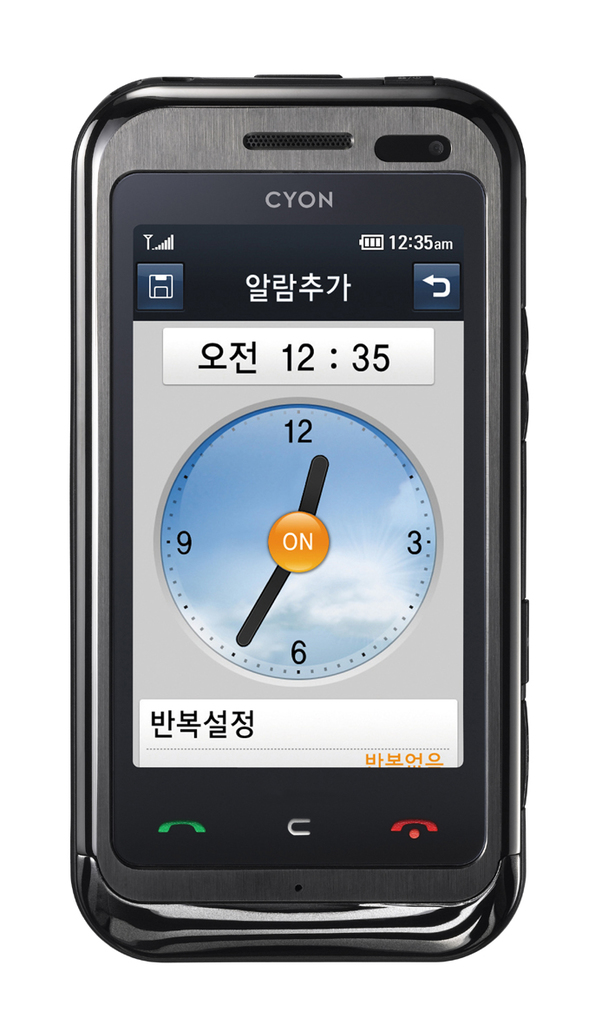mobile phone: (67, 74, 528, 958)
